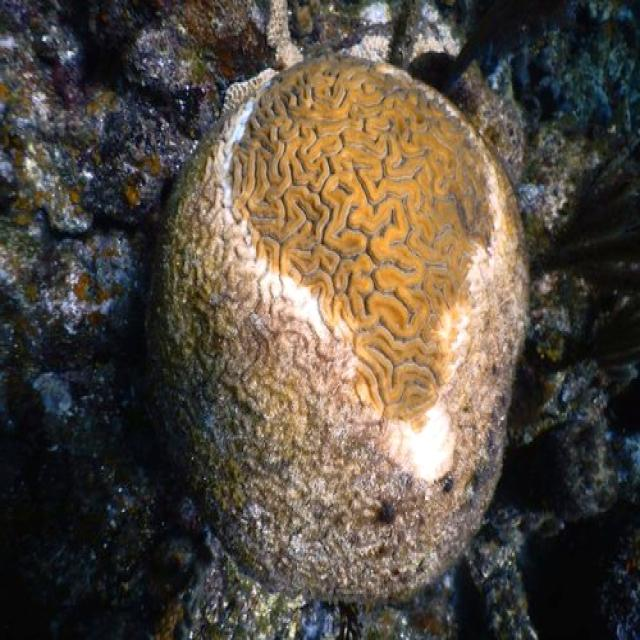Coral: (143, 51, 531, 606)
